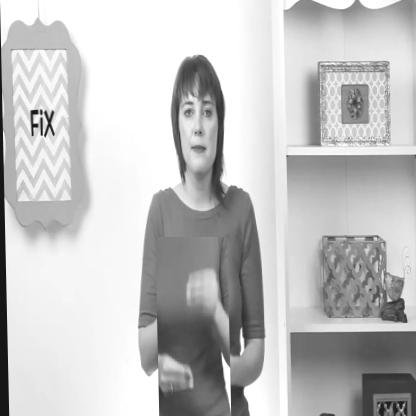Fix: (154, 237, 229, 416)
